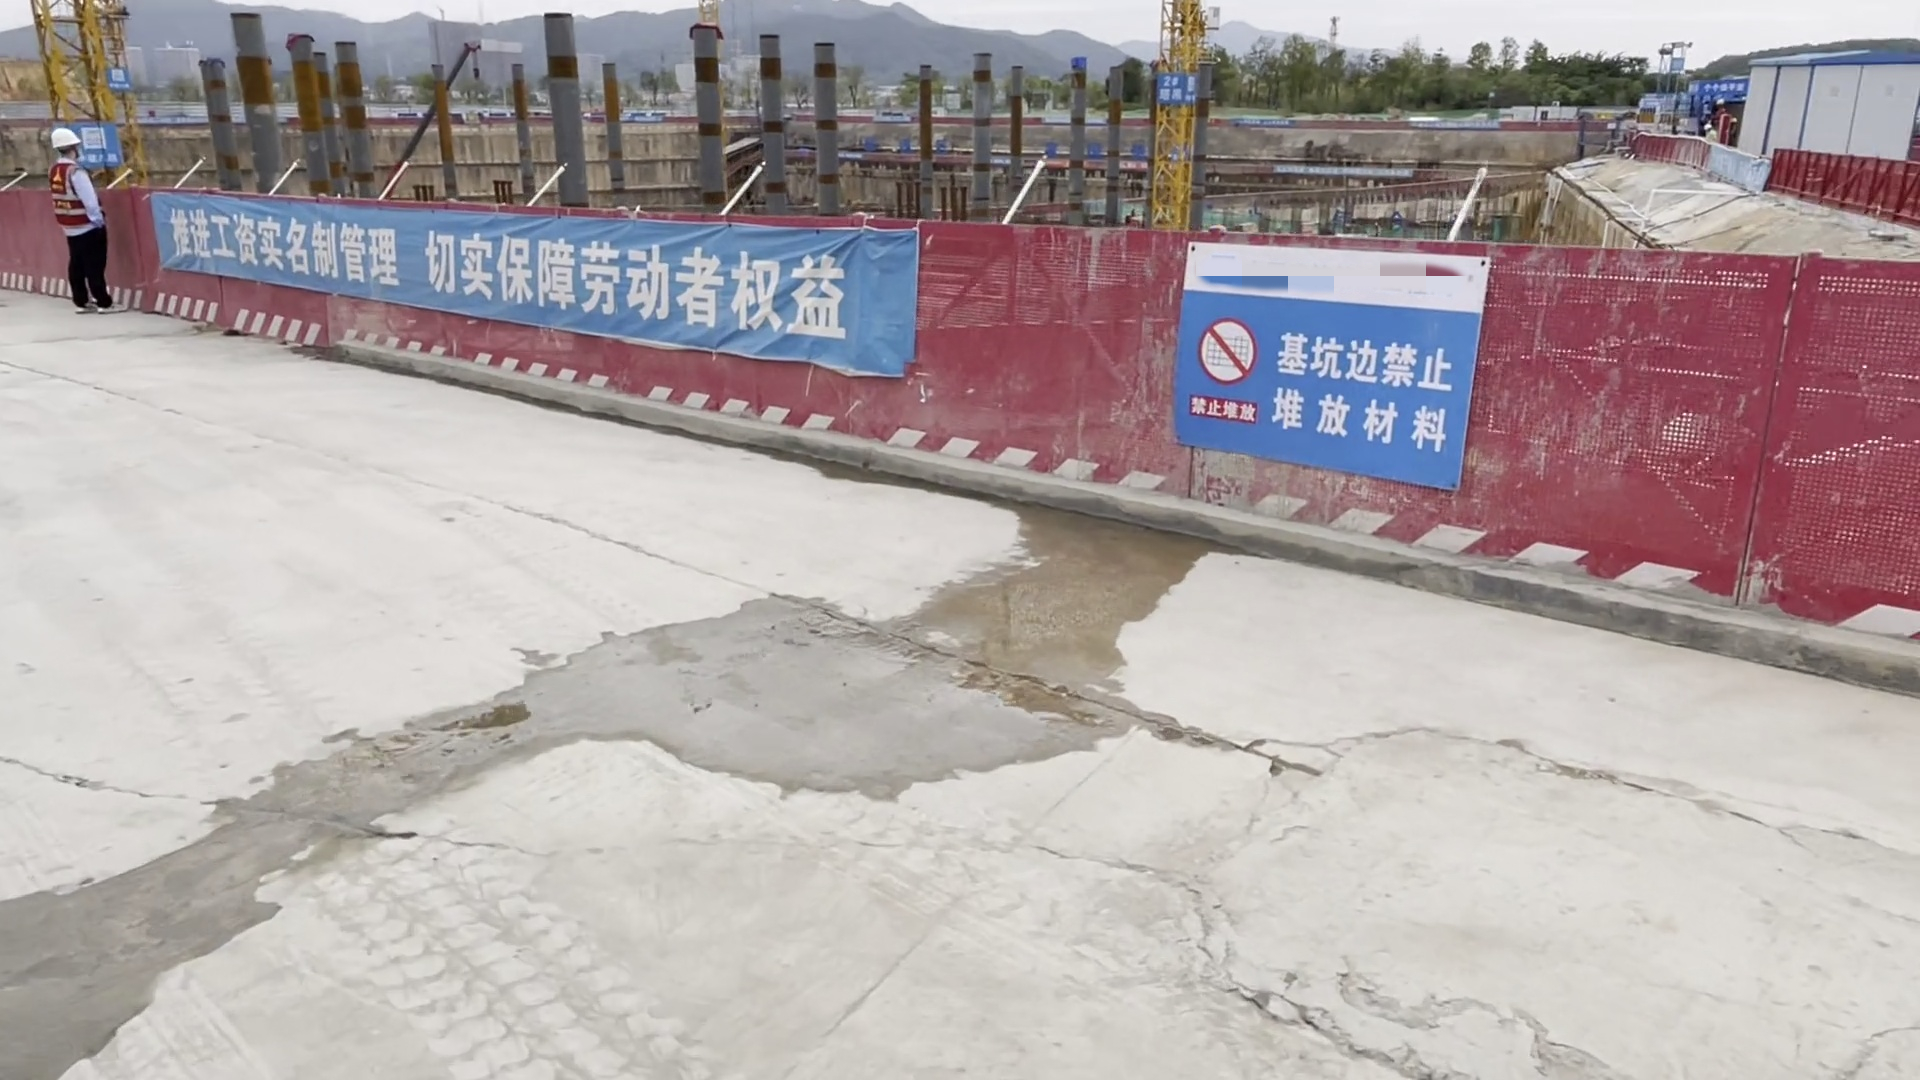slogan: (121, 181, 905, 364)
